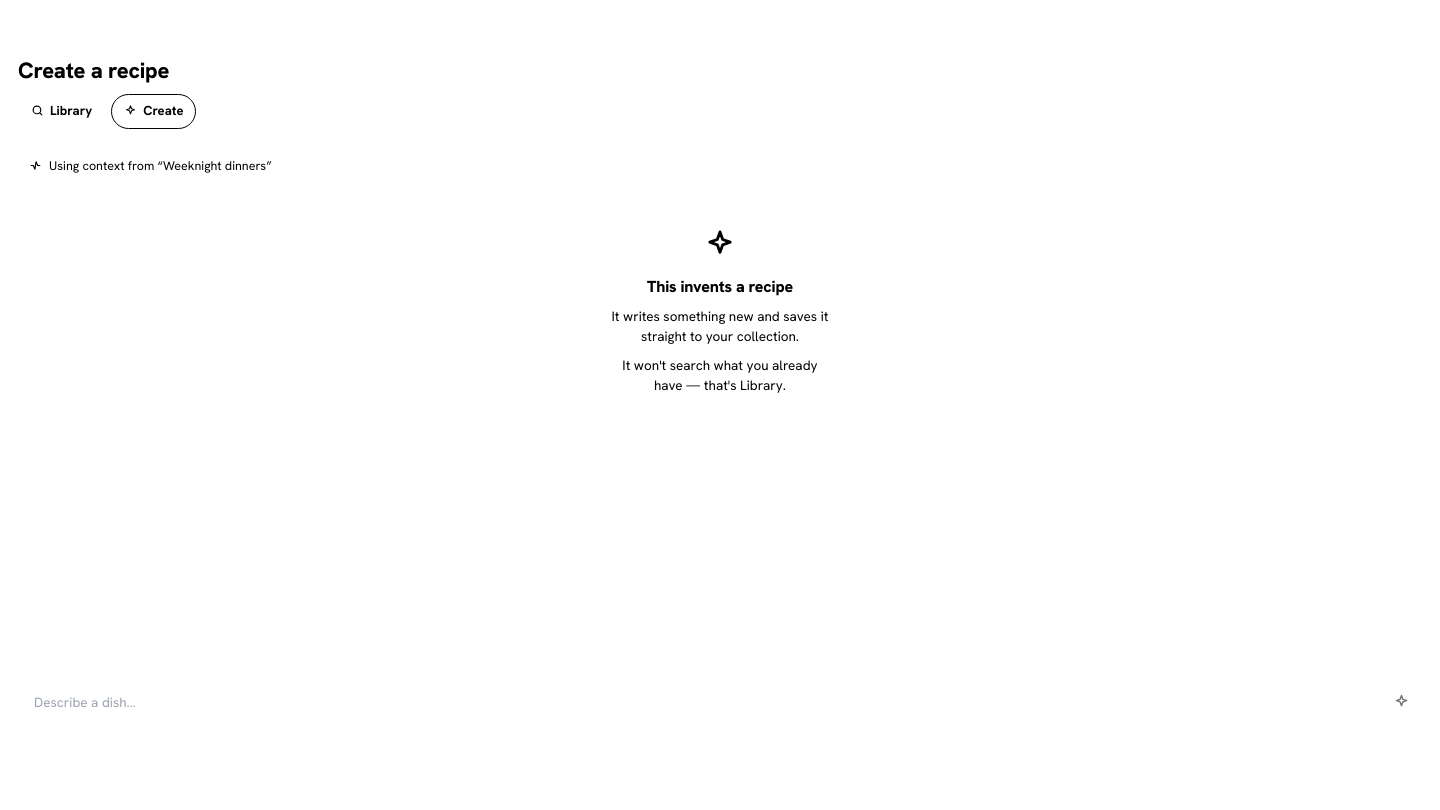
Test: Chat — Create mode › tells the user the budget is spent on a 429, not that the generator broke
This screenshot has width=1440, height=810.
In the field named "Describe the recipe to generate": (694, 702) [18,680,1371,724], type "a 20-minute noodle bowl"
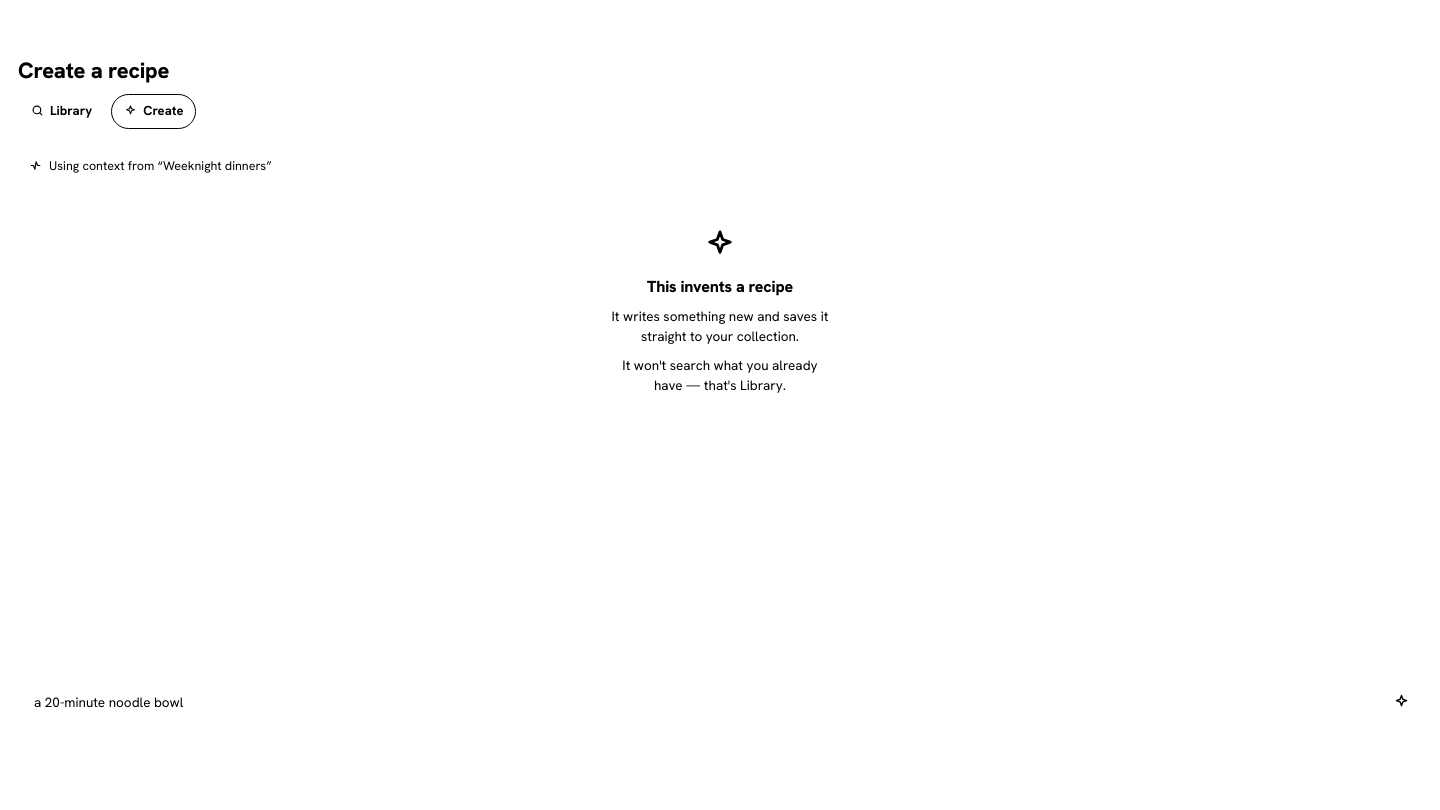
Click the button named "Generate recipe": (1401, 702) [1380,681,1422,723]
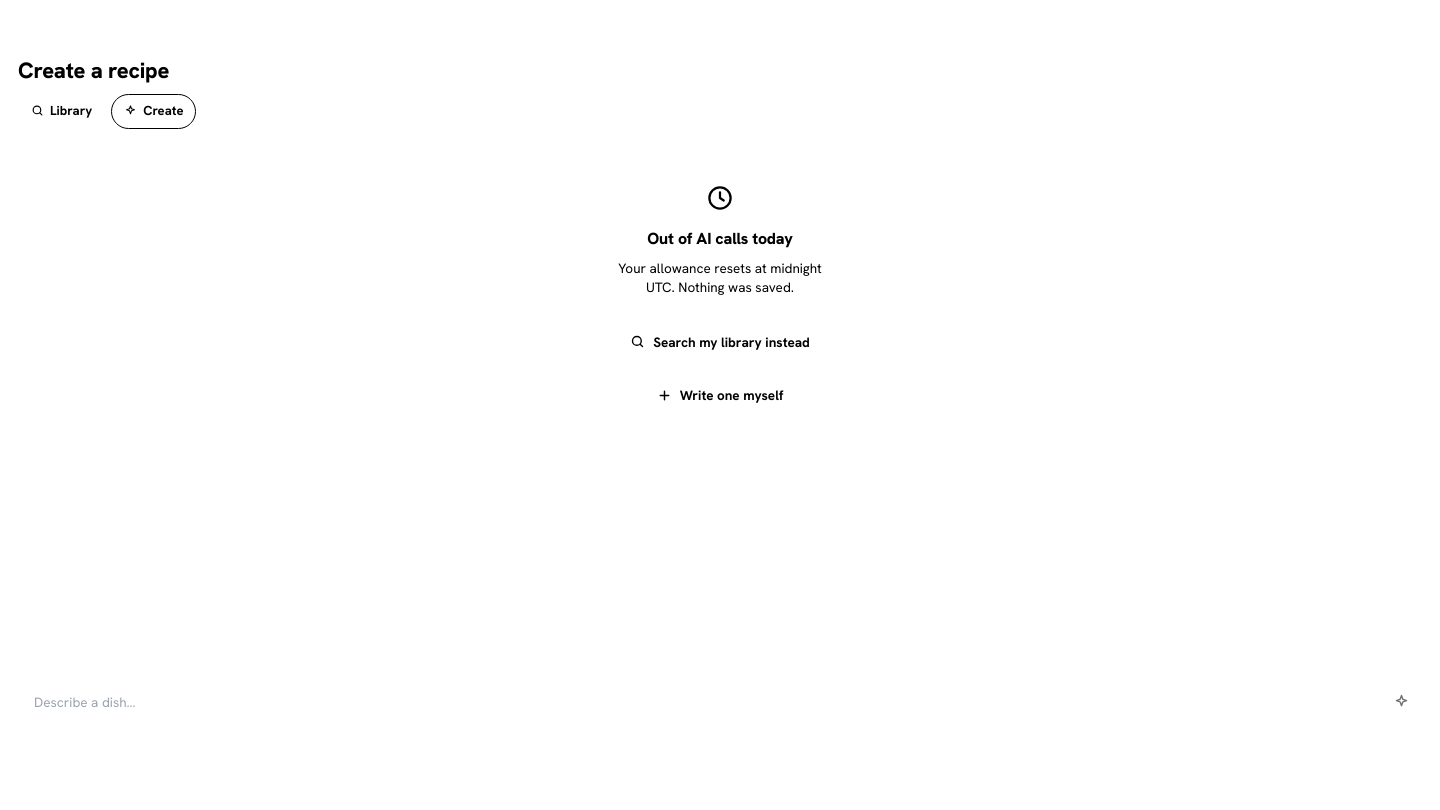
Now the heading "Out of AI calls today" is shown, box [647,228,793,248]
Now the text "Your allowance resets at midnight UTC. Nothing was saved." is shown, box [607,258,833,298]
